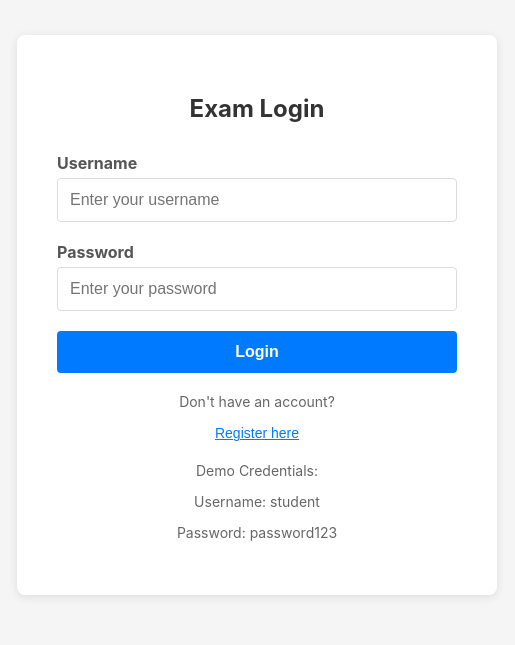
Test: Login Component › displays error message on login failure
Type "testuser" into the field with placeholder "Enter your username" at (257, 200), box [57,178,457,222]
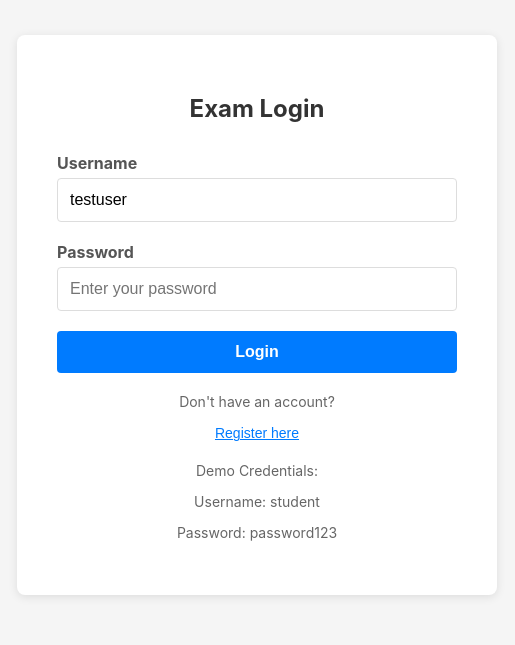
Type "wrongpass" into the password field with placeholder "Enter your password" at (257, 290), box [57,268,457,312]
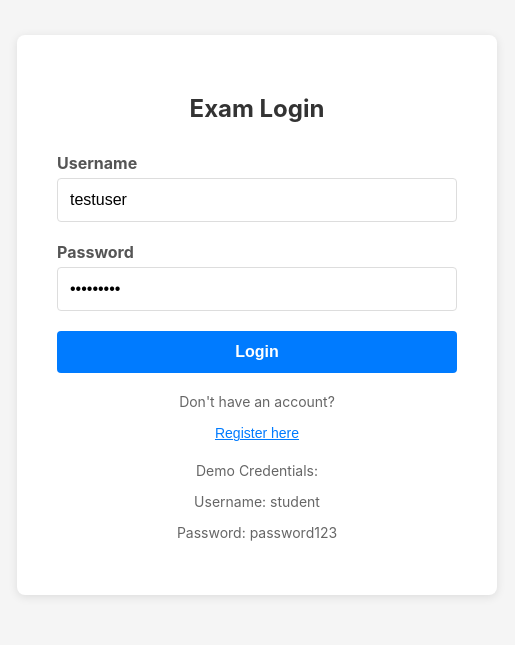
Click the button "Login" at (257, 352), box [57,332,457,374]
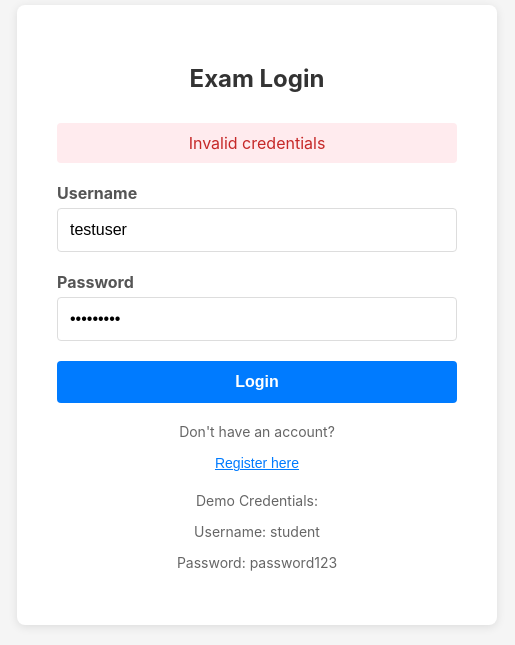
Result: the text "Invalid credentials" is shown at [57,124,457,164]
